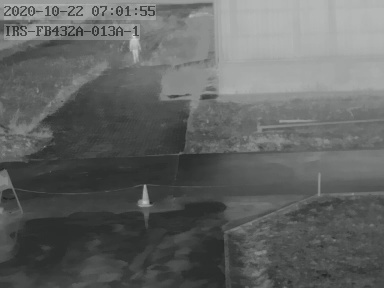person: (128, 34, 141, 62)
